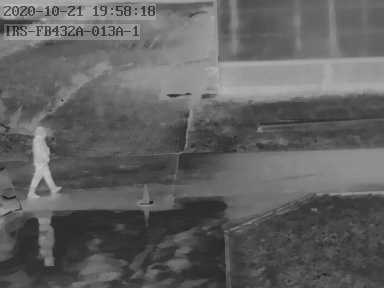person: (29, 127, 56, 195)
